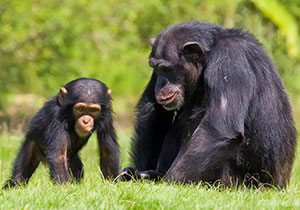Chimpanzee: (136, 29, 297, 192), (8, 80, 124, 186)
